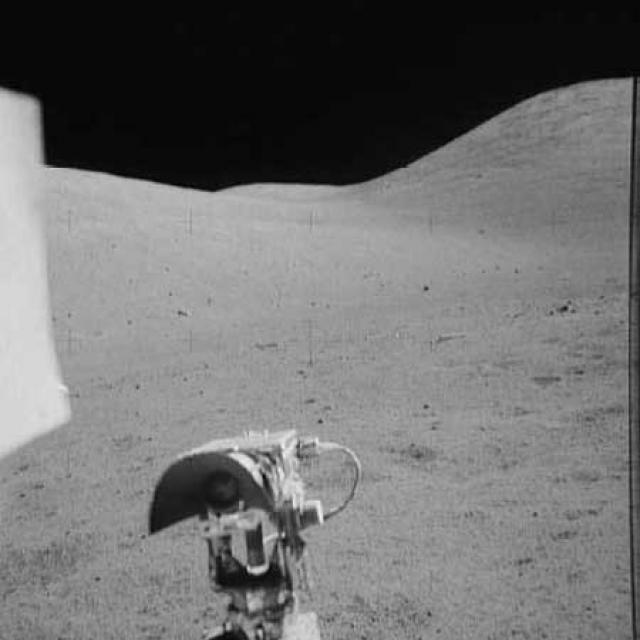artifact: (138, 425, 373, 639)
crater: (412, 449, 520, 483)
